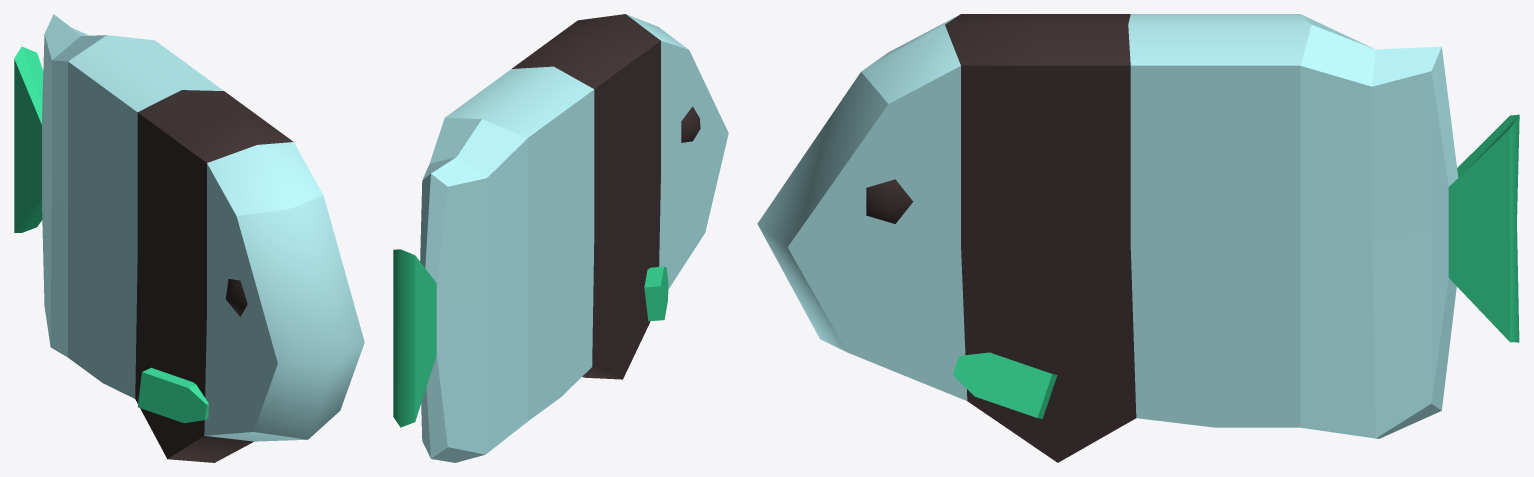
The model's file is FishAqua.FBX.
The picture shows the model from 3 angles, left to right: view 1: azimuth 30°, elevation 25°; view 2: azimuth 150°, elevation 25°; view 3: azimuth 270°, elevation 25°; orthographic projection. The views are drawn at different scales.
Visible parts, largest first — view 1: FishAqua; view 2: FishAqua; view 3: FishAqua.
Part boxes in pixels (left/top/right/bottom): FishAqua: left=14, top=14, right=364, bottom=462; FishAqua: left=393, top=14, right=728, bottom=462; FishAqua: left=757, top=14, right=1519, bottom=462.
Bounding box in the file's own units: 3.64 × 7.68 × 12.45.
